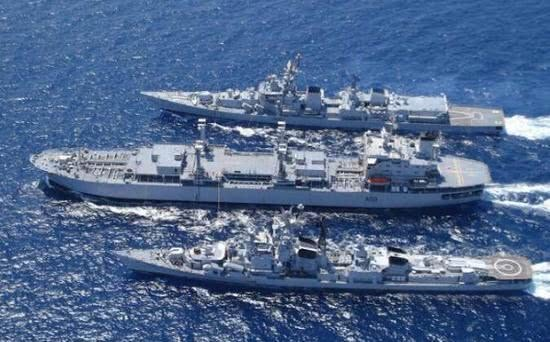warship: (29, 112, 488, 209), (112, 211, 534, 290), (139, 56, 509, 139)
